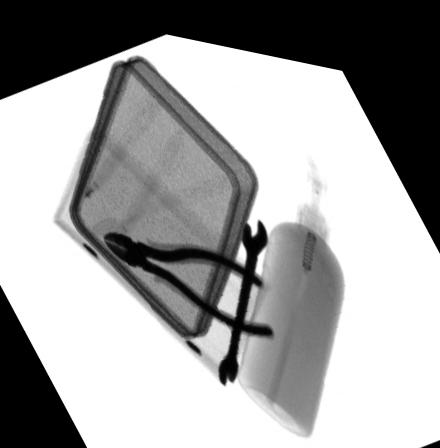Pliers: (99, 224, 275, 331)
Wrench: (216, 210, 268, 377)
